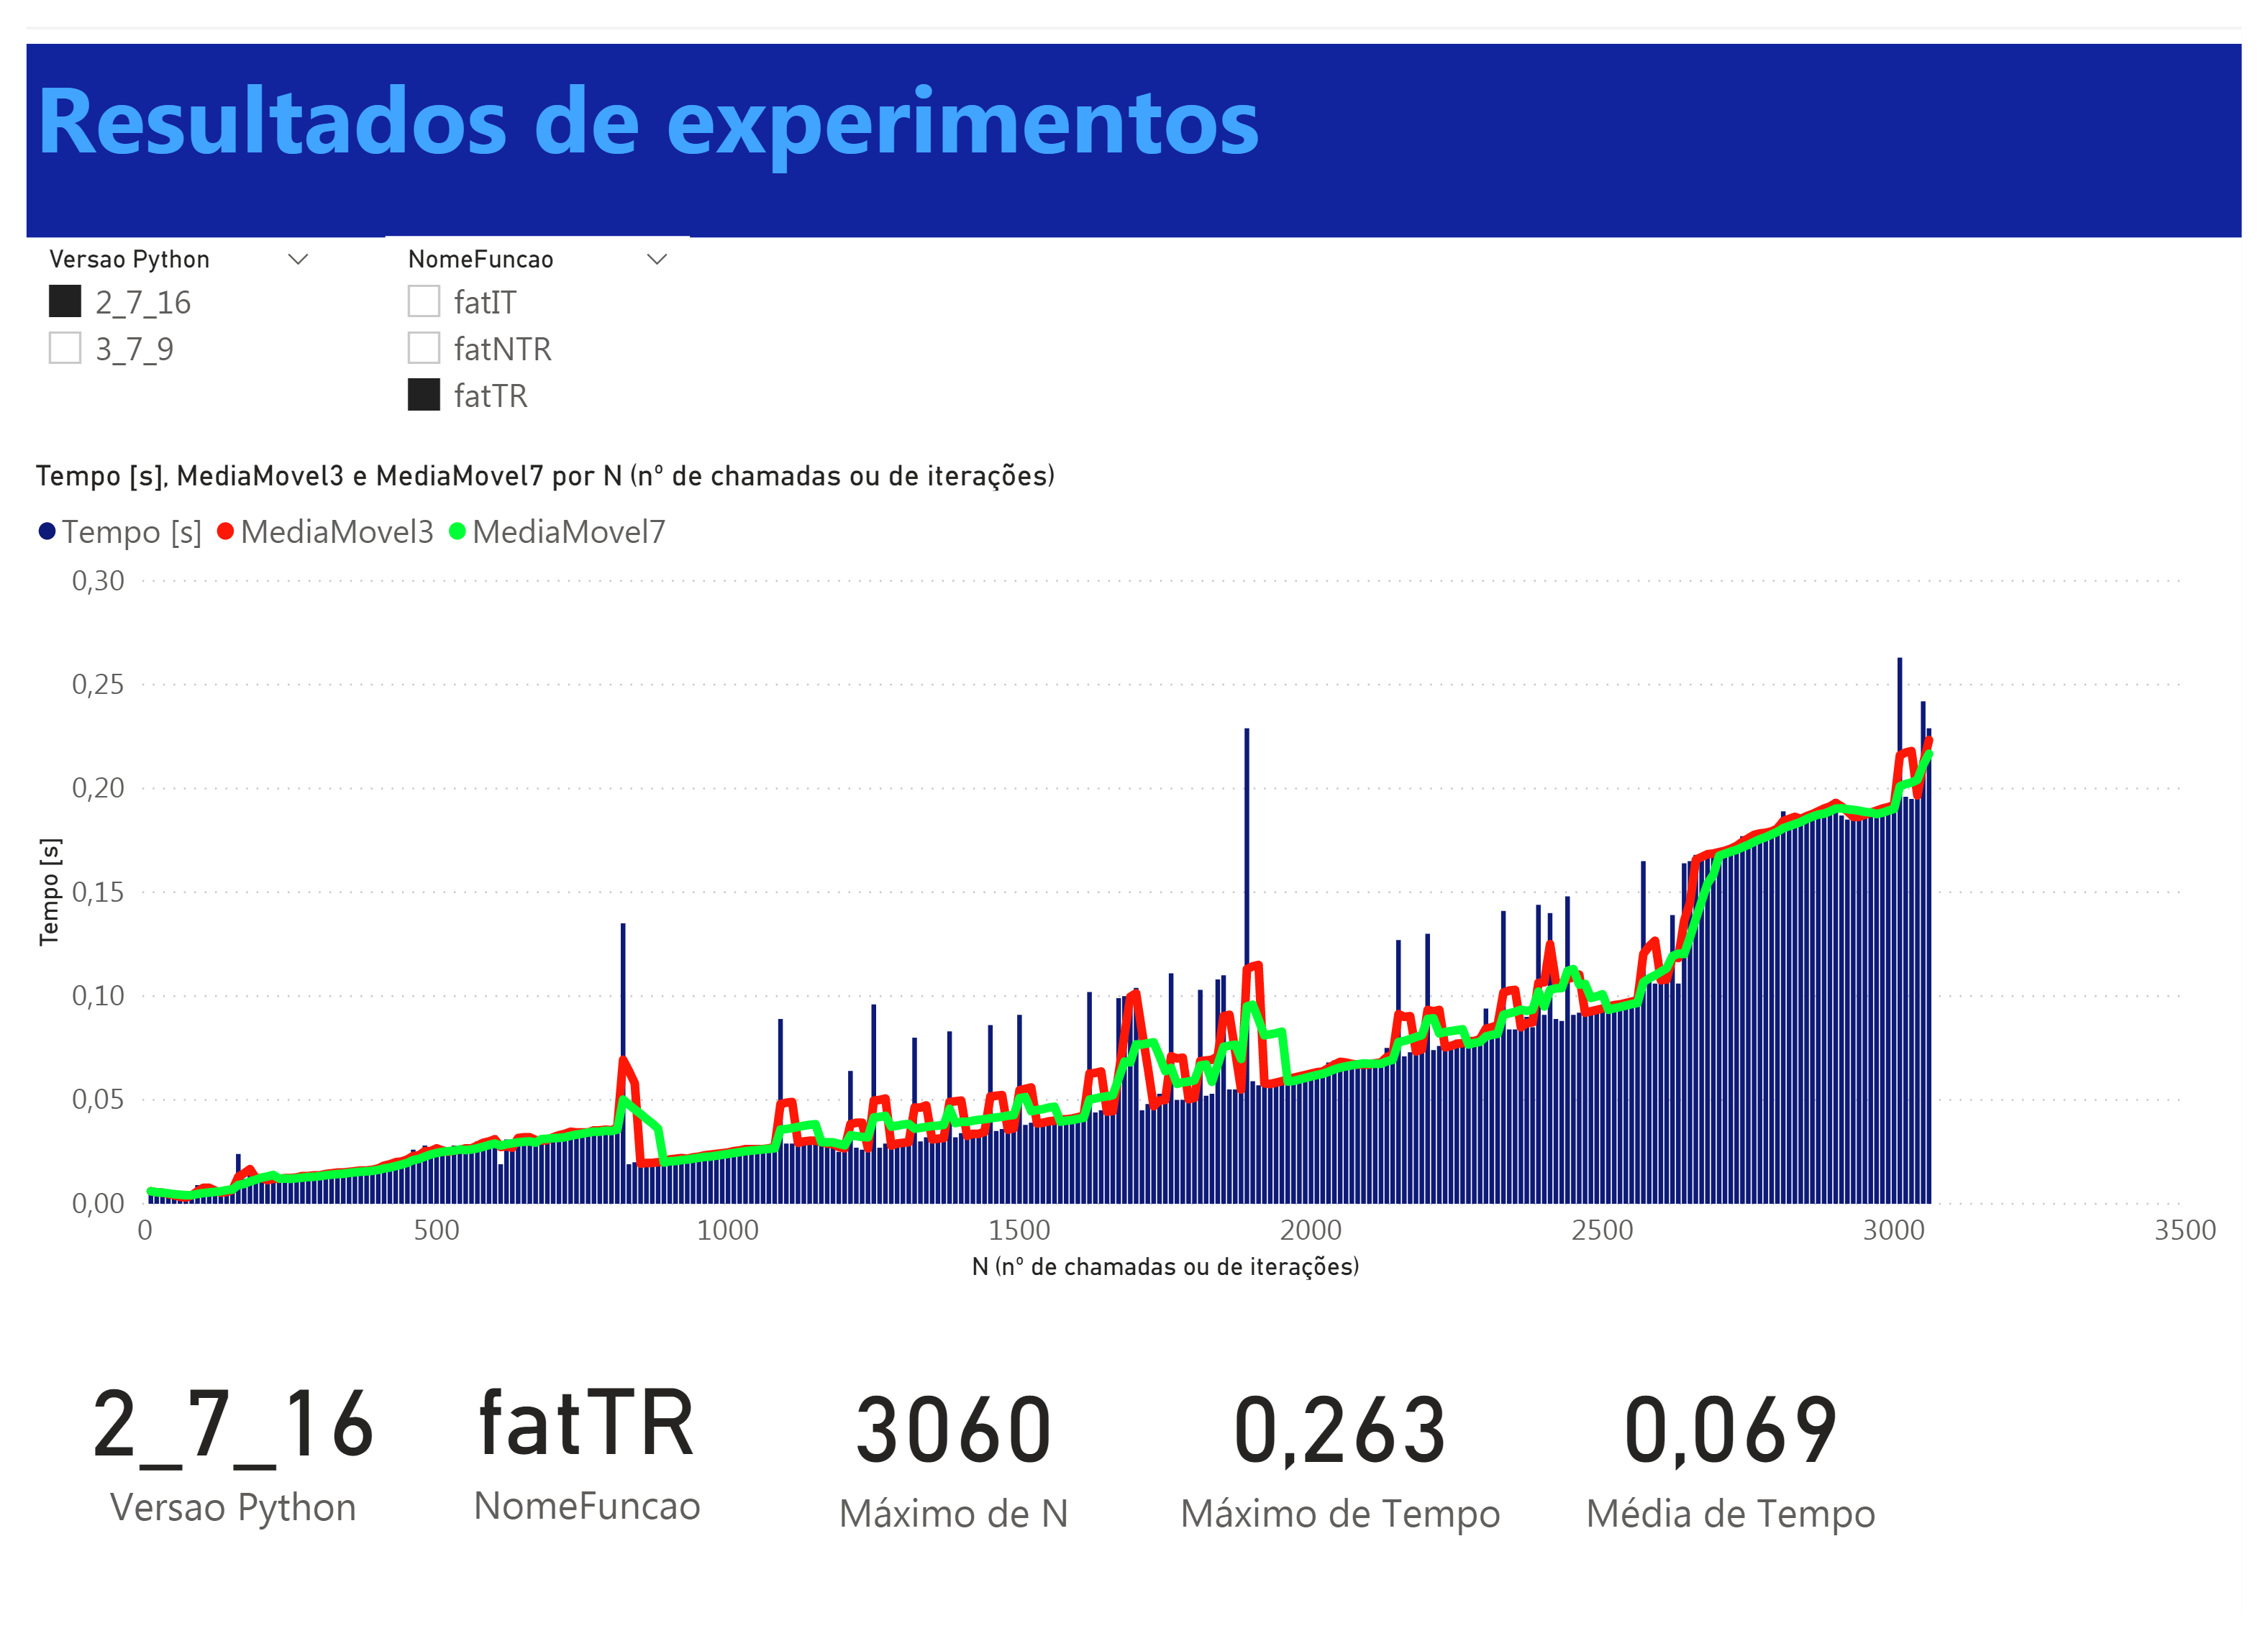

Layout of this report page (visuals, bound fields, positions):
{"tool":"powerbi","page":{"name":"Texto","canvas":[1280,900],"ordinal":6},"visuals":[{"type":"card","fields":{"Values":["Max(Tabela1.Tempo)"]},"box":[576,744,216,120],"z":0},{"type":"card","fields":{"Values":["Min(Tabela1.NomeFuncao)"]},"box":[192,704,208,192],"z":1000},{"type":"card","fields":{"Values":["Max(Tabela1.N)"]},"box":[400,704,160,192],"z":2000},{"type":"card","fields":{"Values":["Avg(Tabela1.Tempo)"]},"box":[792,720,216,168],"z":3000},{"type":"slicer","fields":{"Values":["Tabela1.Versao Python"]},"box":[0,112,176,112],"z":4000},{"type":"card","fields":{"Values":["Min(Tabela1.Versao Python)"]},"box":[0,704,192,192],"z":5000},{"type":"textbox","box":[0,0,1280,112],"z":6000},{"type":"slicer","fields":{"Values":["Tabela1.NomeFuncao"]},"box":[192,112,176,112],"z":7000},{"type":"lineClusteredColumnComboChart","fields":{"Y":["Sum(Tabela1.Tempo)"],"Category":["Tabela1.N"],"Y2":["Tabela1.MediaMovel3","Tabela1.MediaMovel7"]},"box":[0,224,1248,480],"z":8000}]}

Visuals, with their boxes in screenshot pixels (x1, y1, x2, y2), scaled from the page's 1280x900 canvas onto the 2268x1641 screenshot:
card - Max(Tabela1.Tempo): left=1021, top=1356, right=1403, bottom=1576
card - Min(Tabela1.NomeFuncao): left=340, top=1284, right=709, bottom=1634
card - Max(Tabela1.N): left=709, top=1284, right=992, bottom=1634
card - Avg(Tabela1.Tempo): left=1403, top=1313, right=1786, bottom=1619
slicer - Tabela1.Versao Python: left=0, top=204, right=312, bottom=408
card - Min(Tabela1.Versao Python): left=0, top=1284, right=340, bottom=1634
textbox: left=0, top=0, right=2267, bottom=204
slicer - Tabela1.NomeFuncao: left=340, top=204, right=652, bottom=408
lineClusteredColumnComboChart - Sum(Tabela1.Tempo) x Tabela1.N: left=0, top=408, right=2211, bottom=1284
